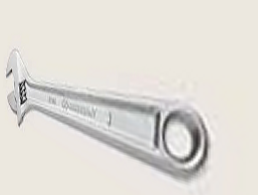Wrench: (5, 41, 218, 181)
